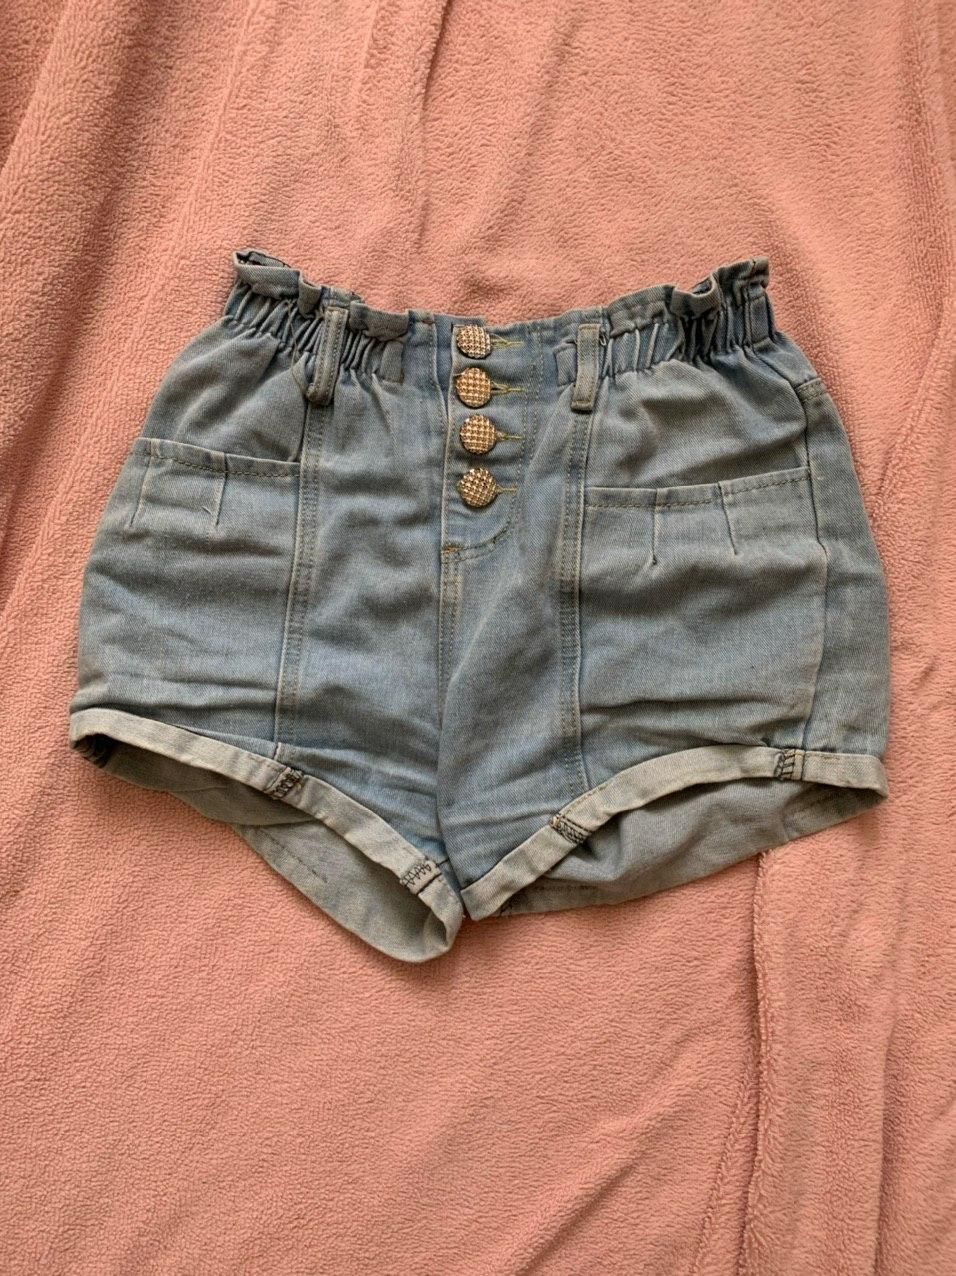clothes: (77, 244, 900, 959)
